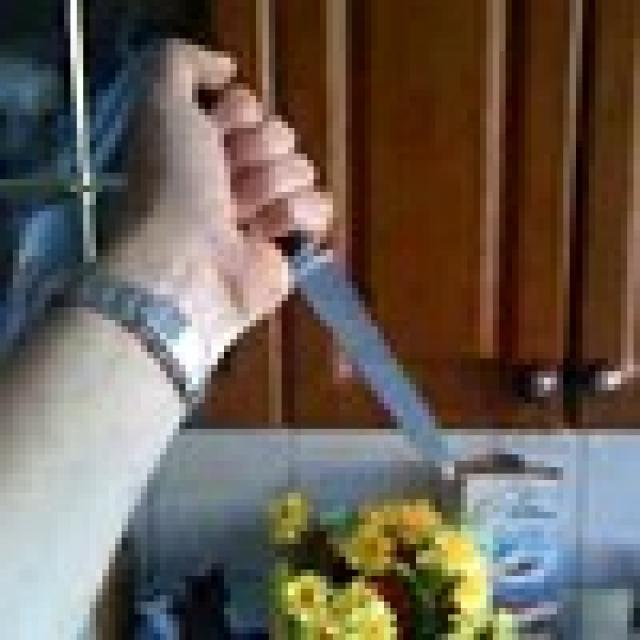Knife: (192, 76, 448, 474)
